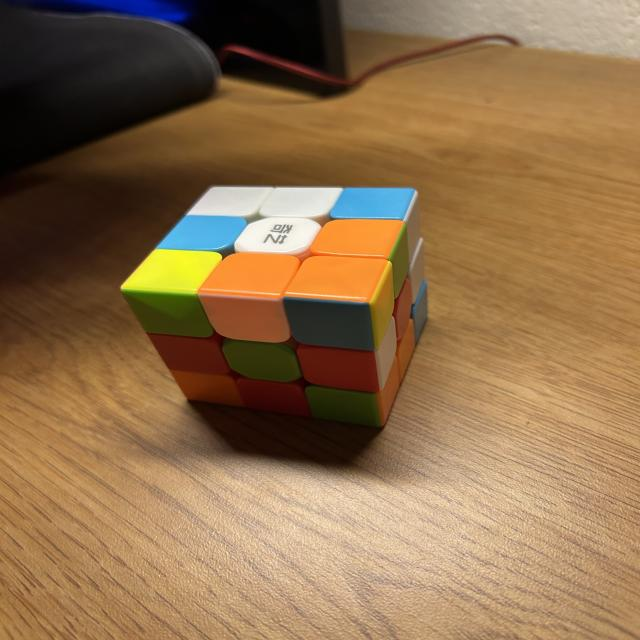Rubiks Cube: (116, 183, 428, 431)
